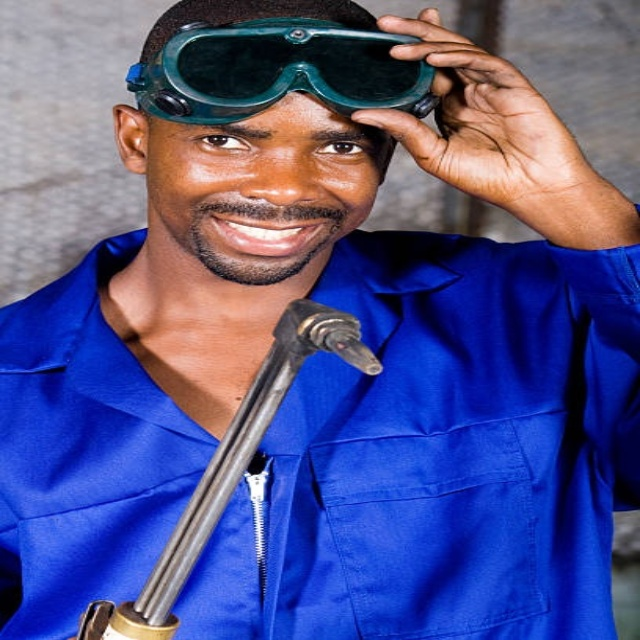Sin_gafas: (179, 124, 373, 178)
Sin_guantes: (346, 10, 615, 223)
Sin_mascara: (187, 197, 333, 270)
